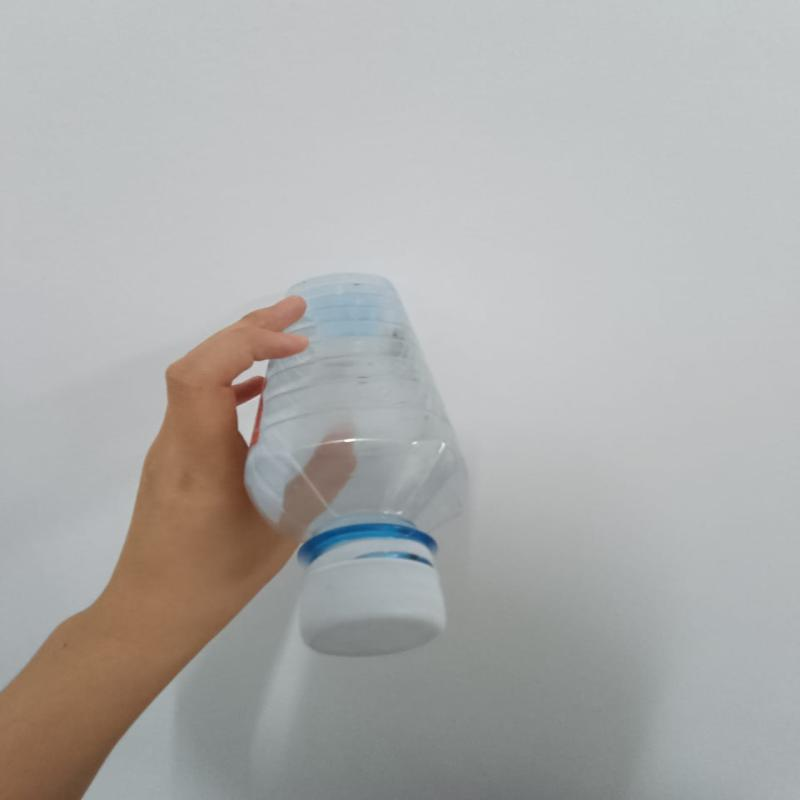botella: (245, 267, 484, 665)
